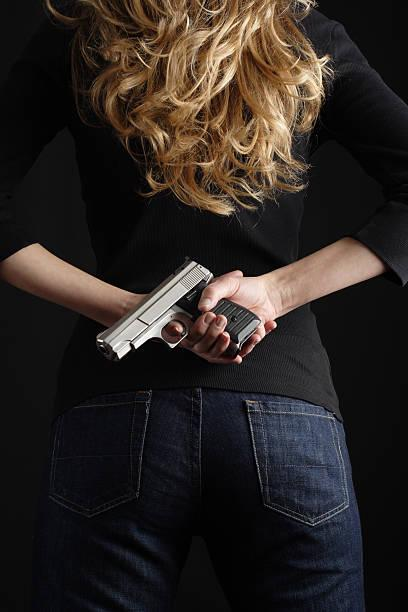weapon: (93, 252, 266, 370)
